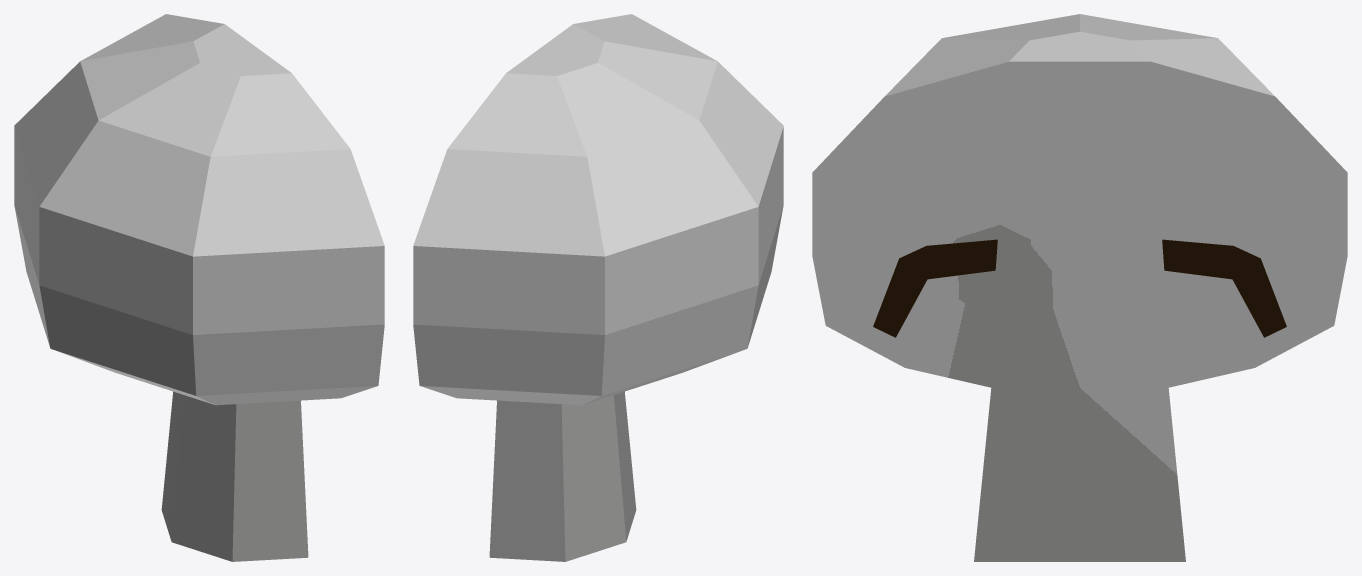
The model's file is mushroom05.gltf.
3 views of the same model, side by side, from view 1: azimuth 30°, elevation 25°; view 2: azimuth 150°, elevation 25°; view 3: azimuth 270°, elevation 25° (orthographic). The views are drawn at different scales.
Parts seen in each view (by area): view 1: Cylinder; view 2: Cylinder; view 3: Cylinder.
Part boxes in pixels (x1,y1,x2,y2): Cylinder: [14, 14, 384, 561]; Cylinder: [413, 14, 783, 561]; Cylinder: [812, 14, 1347, 561].
Bounding box in the file's own units: 0.0173 × 0.0356 × 0.0346.
Materials: 1 (1 with a texture image).
